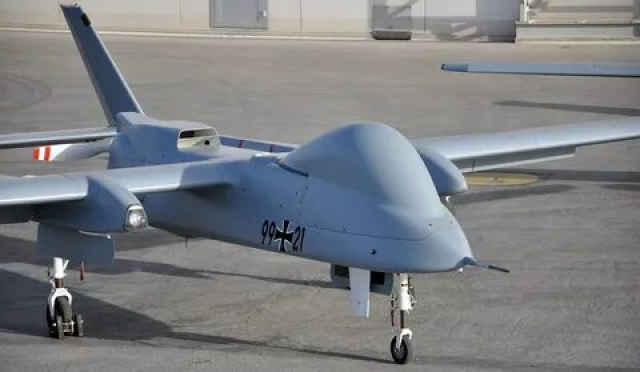military drone: (0, 2, 640, 364)
